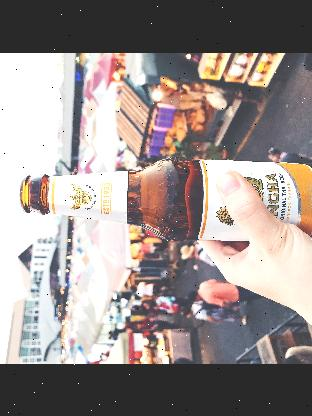Others: (18, 155, 312, 243)
